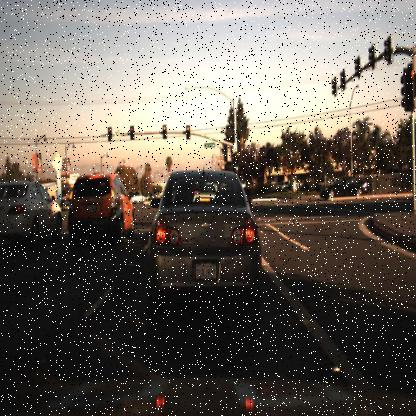car: (148, 170, 264, 314), (68, 170, 134, 240), (0, 180, 62, 250), (315, 171, 372, 206), (318, 174, 369, 201), (127, 190, 144, 208)
trafficLight-Red: (182, 123, 191, 143), (234, 150, 242, 165), (106, 124, 114, 138), (161, 124, 167, 142), (127, 124, 135, 134)
trafficLight-RedLeft: (129, 121, 137, 143), (106, 124, 113, 143)
